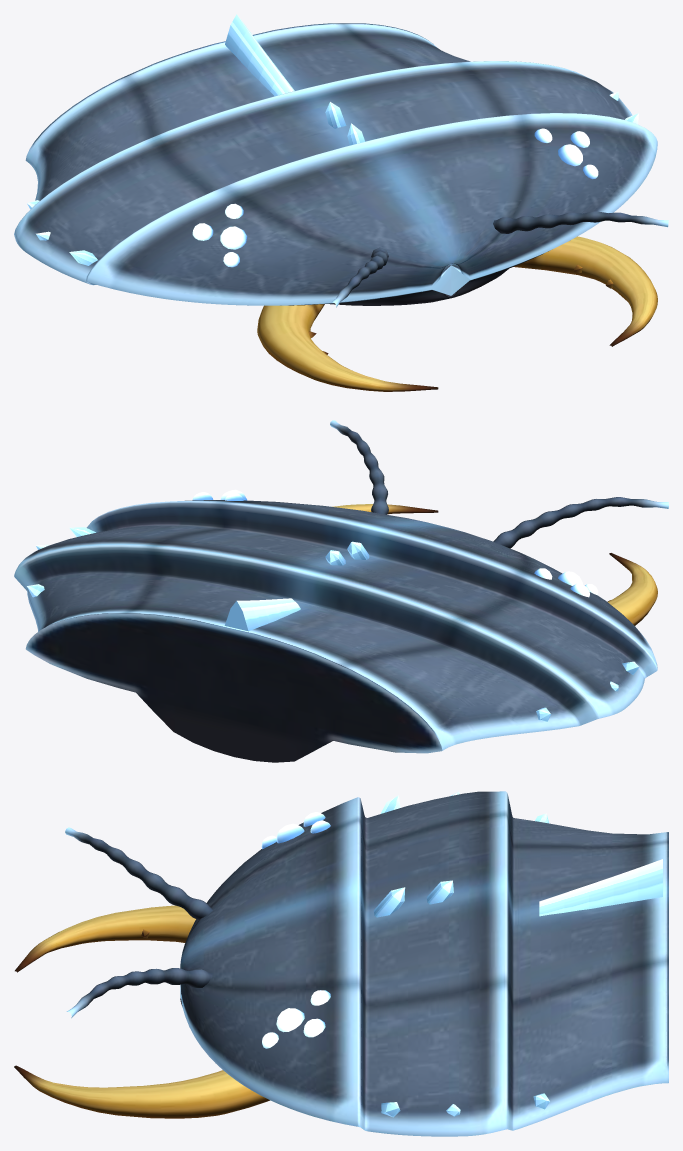
Rendered from centopeia_cabeca_v01.glb.
The picture shows the model from 3 angles, top to bottom: view 1: azimuth 30°, elevation 25°; view 2: azimuth 150°, elevation 25°; view 3: azimuth 270°, elevation 25°; orthographic projection. The views are drawn at different scales.
Bounding box in the file's own units: 1.32 × 0.3347 × 1.11.
1 material, 1 textured.
